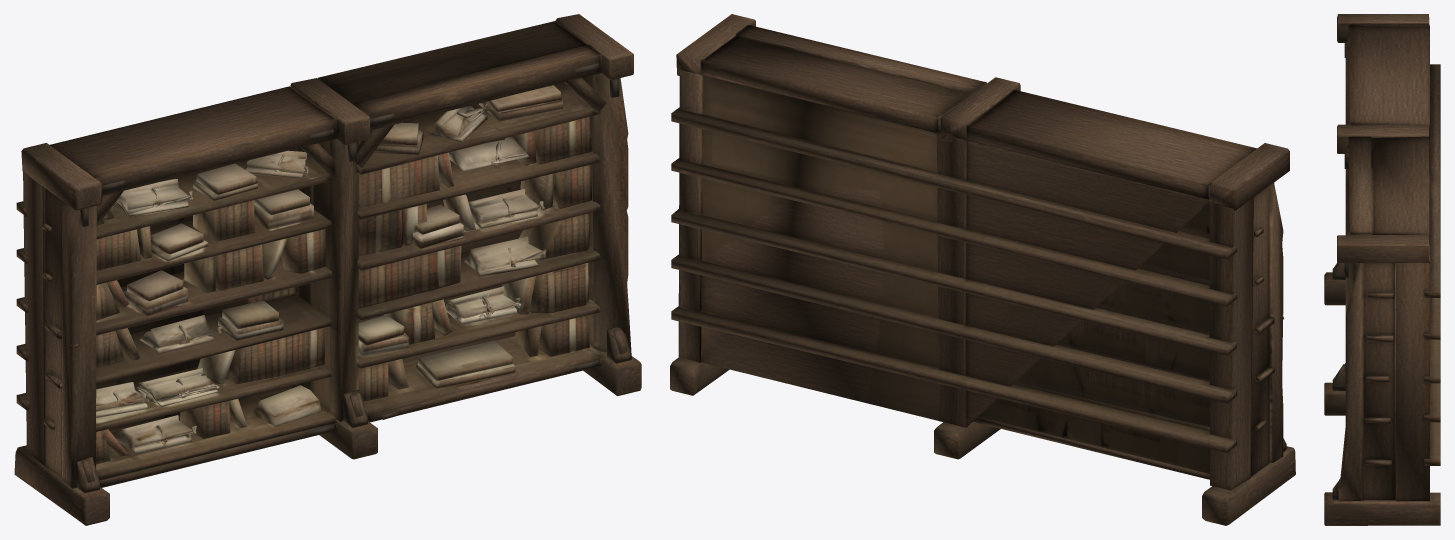
File: bookshelf.glb
3 renders of one model, left to right at view 1: azimuth 30°, elevation 25°; view 2: azimuth 150°, elevation 25°; view 3: azimuth 270°, elevation 25°, orthographic. The views are drawn at different scales.
Parts seen in each view (by area): view 1: tripo_node_c6ad8612-460e-45c8-a23d-91271a845312; view 2: tripo_node_c6ad8612-460e-45c8-a23d-91271a845312; view 3: tripo_node_c6ad8612-460e-45c8-a23d-91271a845312.
Part boxes in pixels (left/top/right/bottom): tripo_node_c6ad8612-460e-45c8-a23d-91271a845312: left=14, top=14, right=641, bottom=525; tripo_node_c6ad8612-460e-45c8-a23d-91271a845312: left=670, top=14, right=1295, bottom=525; tripo_node_c6ad8612-460e-45c8-a23d-91271a845312: left=1324, top=14, right=1440, bottom=525.
Size of the model in its own units: 0.998 by 0.5684 by 0.2129.
1 material, 1 textured.
